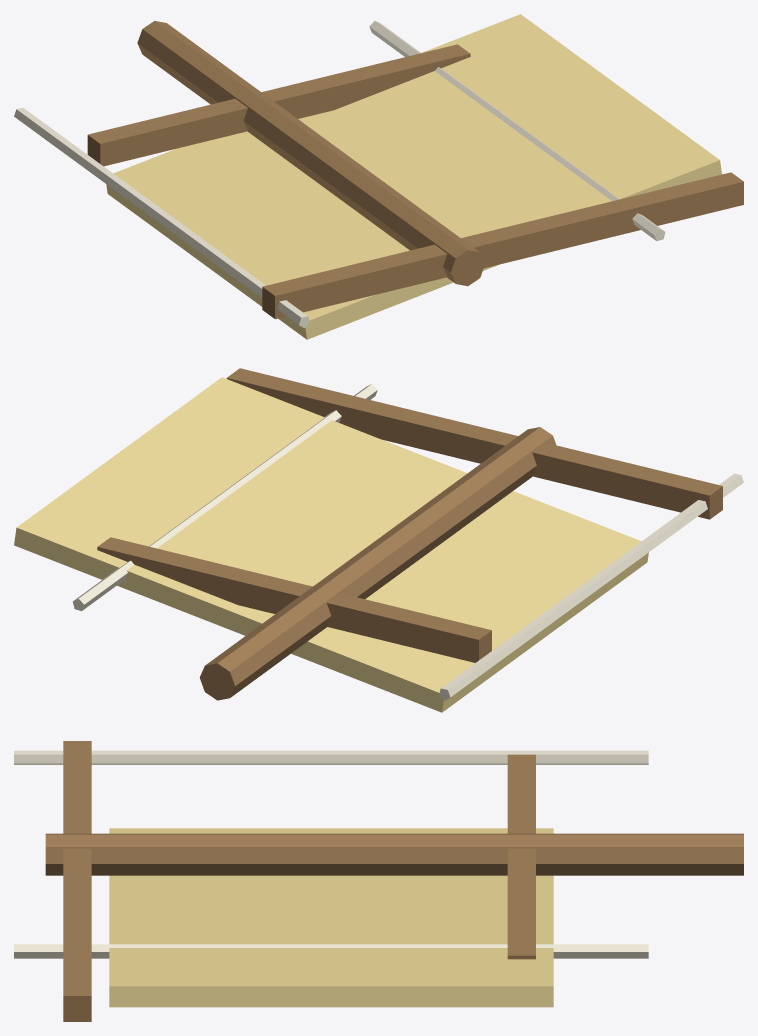
The model's file is 07_skyship_rigging.glb.
The picture shows the model from 3 angles, top to bottom: view 1: azimuth 30°, elevation 25°; view 2: azimuth 150°, elevation 25°; view 3: azimuth 270°, elevation 25°; orthographic projection. The views are drawn at different scales.
Parts seen in each view (by area): view 1: sail_panel, spar_top, mast, spar_bottom, rigging_line_l, rigging_line_r; view 2: sail_panel, mast, spar_top, spar_bottom, rigging_line_l, rigging_line_r; view 3: sail_panel, mast, rigging_line_l, spar_top, spar_bottom, rigging_line_r.
Boxes of the visible parts, x1,y1,x2,y2 form: sail_panel: (106, 14, 721, 339); spar_top: (262, 172, 743, 319); mast: (137, 21, 484, 286); spar_bottom: (87, 44, 470, 166); rigging_line_l: (14, 107, 309, 327); rigging_line_r: (369, 21, 665, 241); sail_panel: (14, 377, 648, 712); mast: (199, 427, 556, 700); spar_top: (226, 368, 722, 519); spar_bottom: (97, 537, 491, 662); rigging_line_l: (439, 473, 743, 700); rigging_line_r: (72, 384, 377, 610); sail_panel: (109, 828, 553, 1007); mast: (45, 833, 743, 875); rigging_line_l: (14, 750, 648, 764); spar_top: (63, 741, 91, 1021); spar_bottom: (507, 754, 535, 959); rigging_line_r: (14, 944, 648, 958).
Bounding box in the file's own units: 2.28 × 0.3671 × 2.76.
